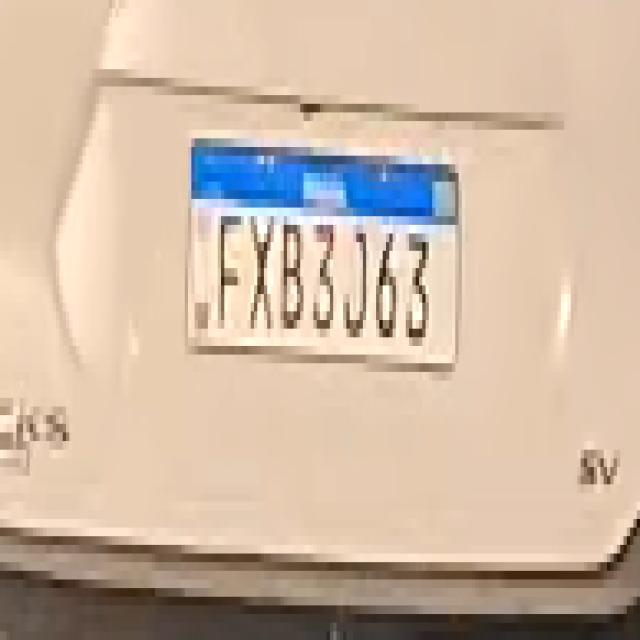Placa_mercosul_carro: (182, 136, 461, 370)
